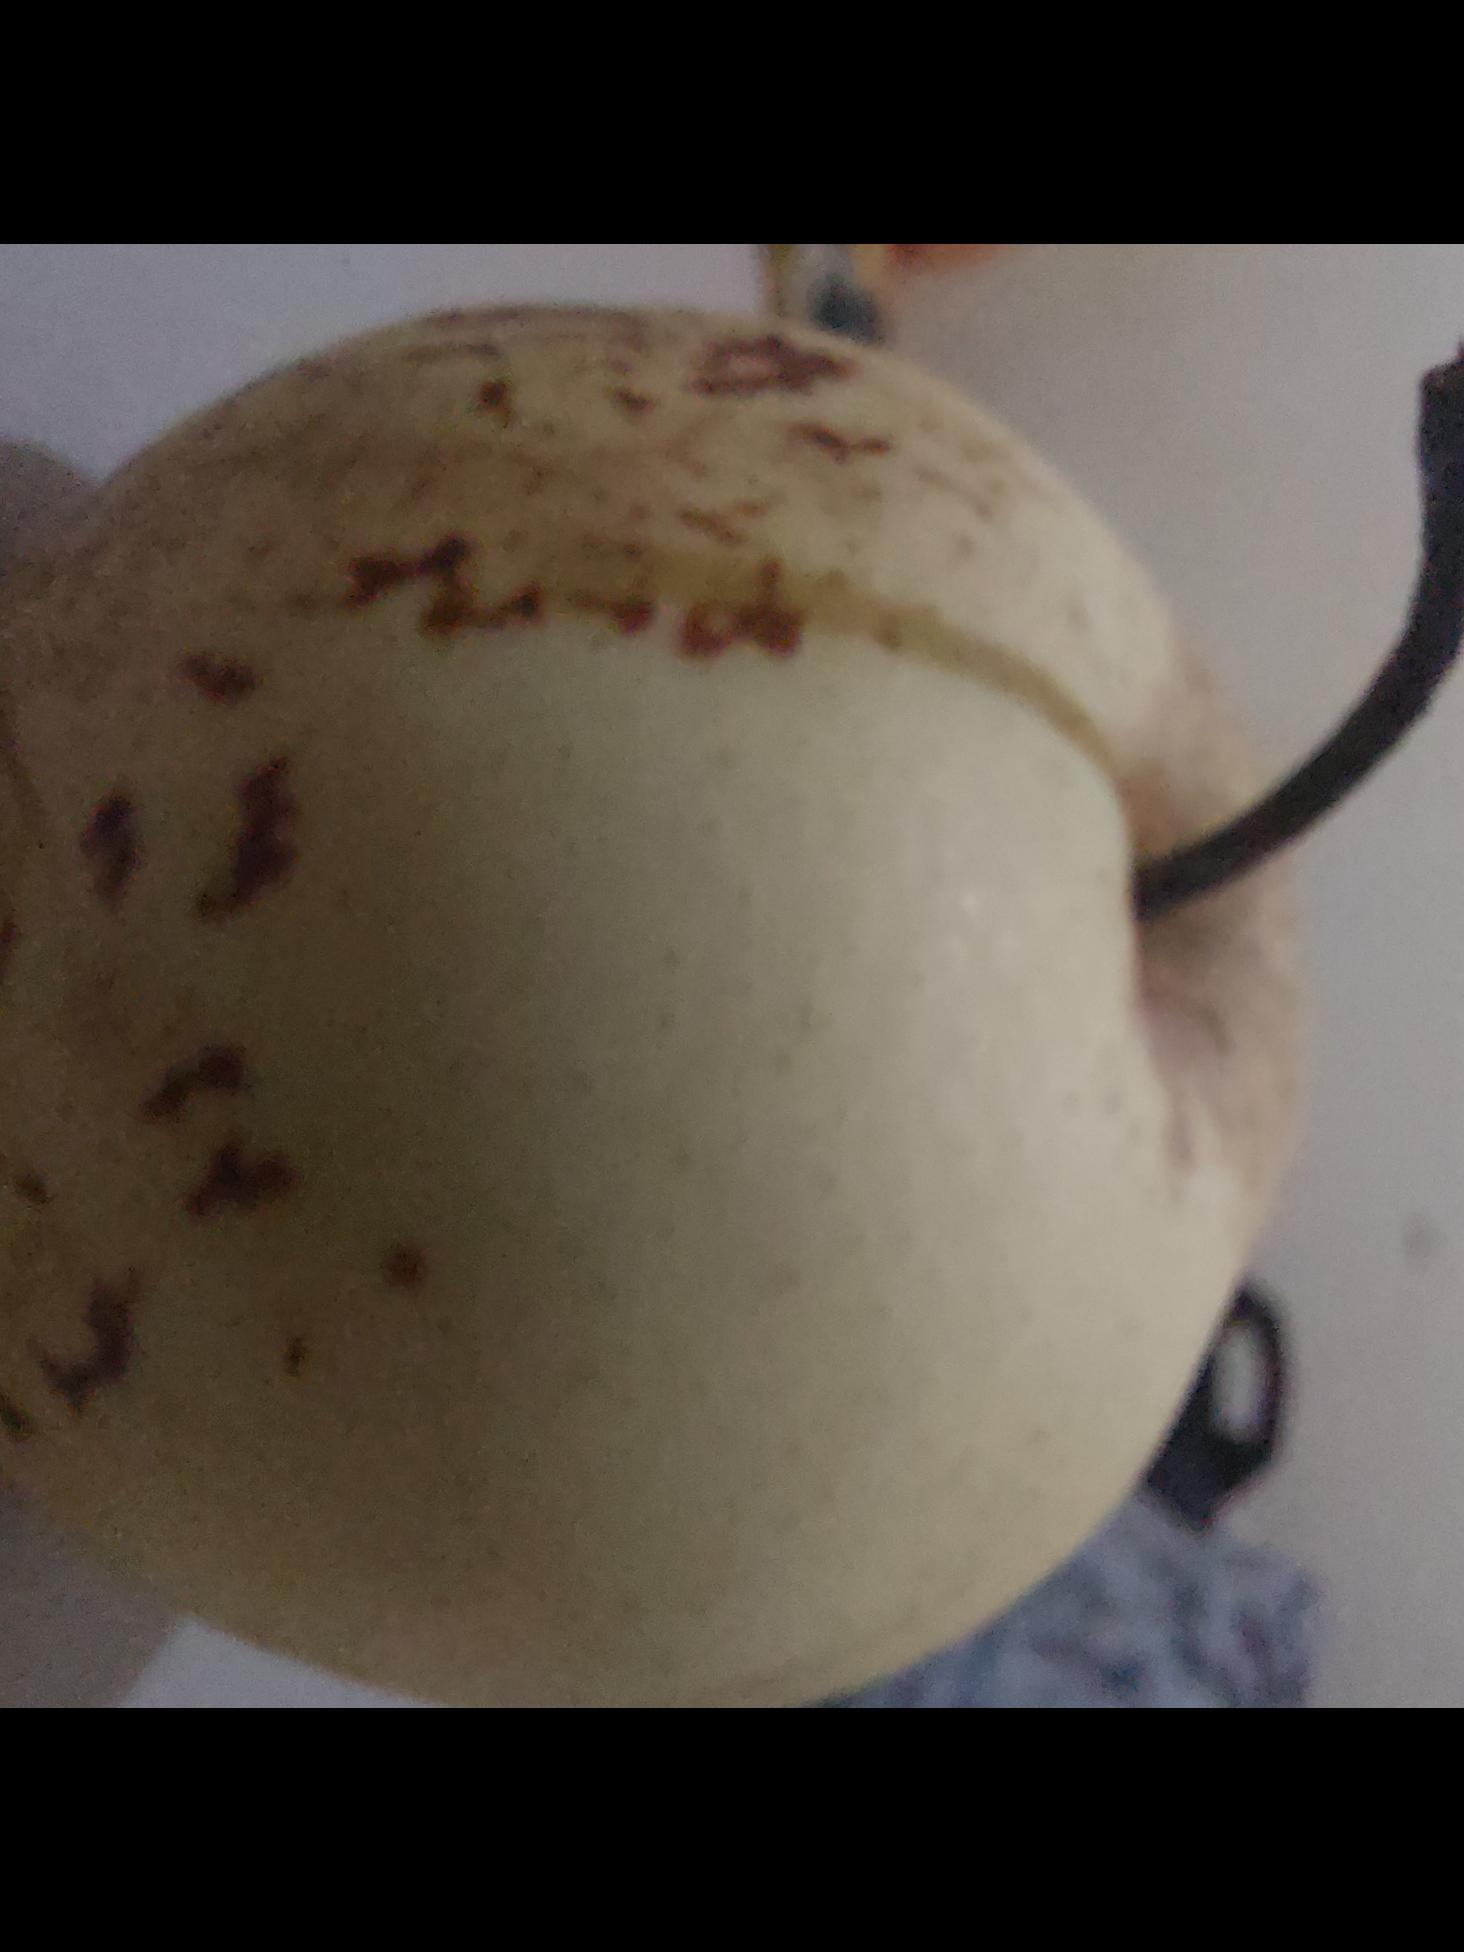Bad Pear: (0, 280, 1312, 1708)
